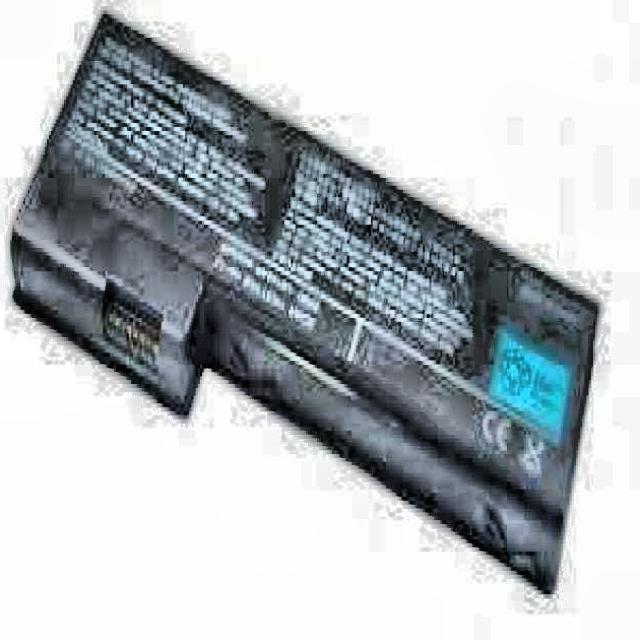Non-Valuable Waste - Batteries: (12, 10, 598, 599)
